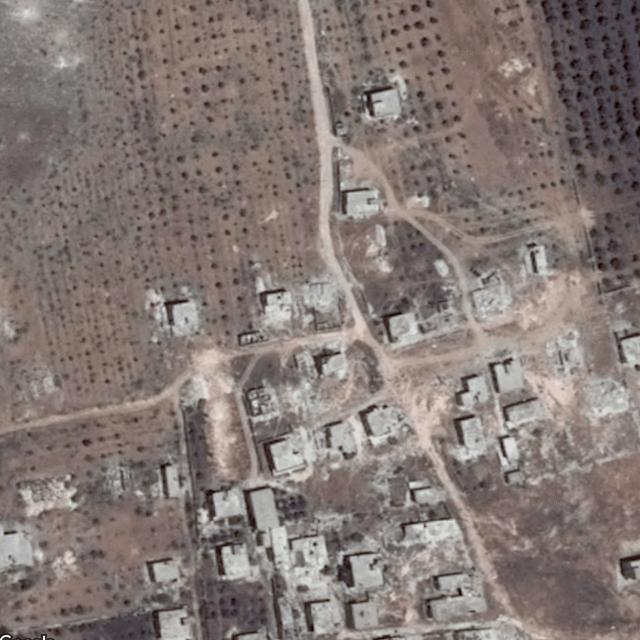damaged_building: (538, 329, 631, 419), (276, 350, 330, 413), (469, 263, 514, 319), (358, 402, 418, 442), (303, 282, 341, 327)
